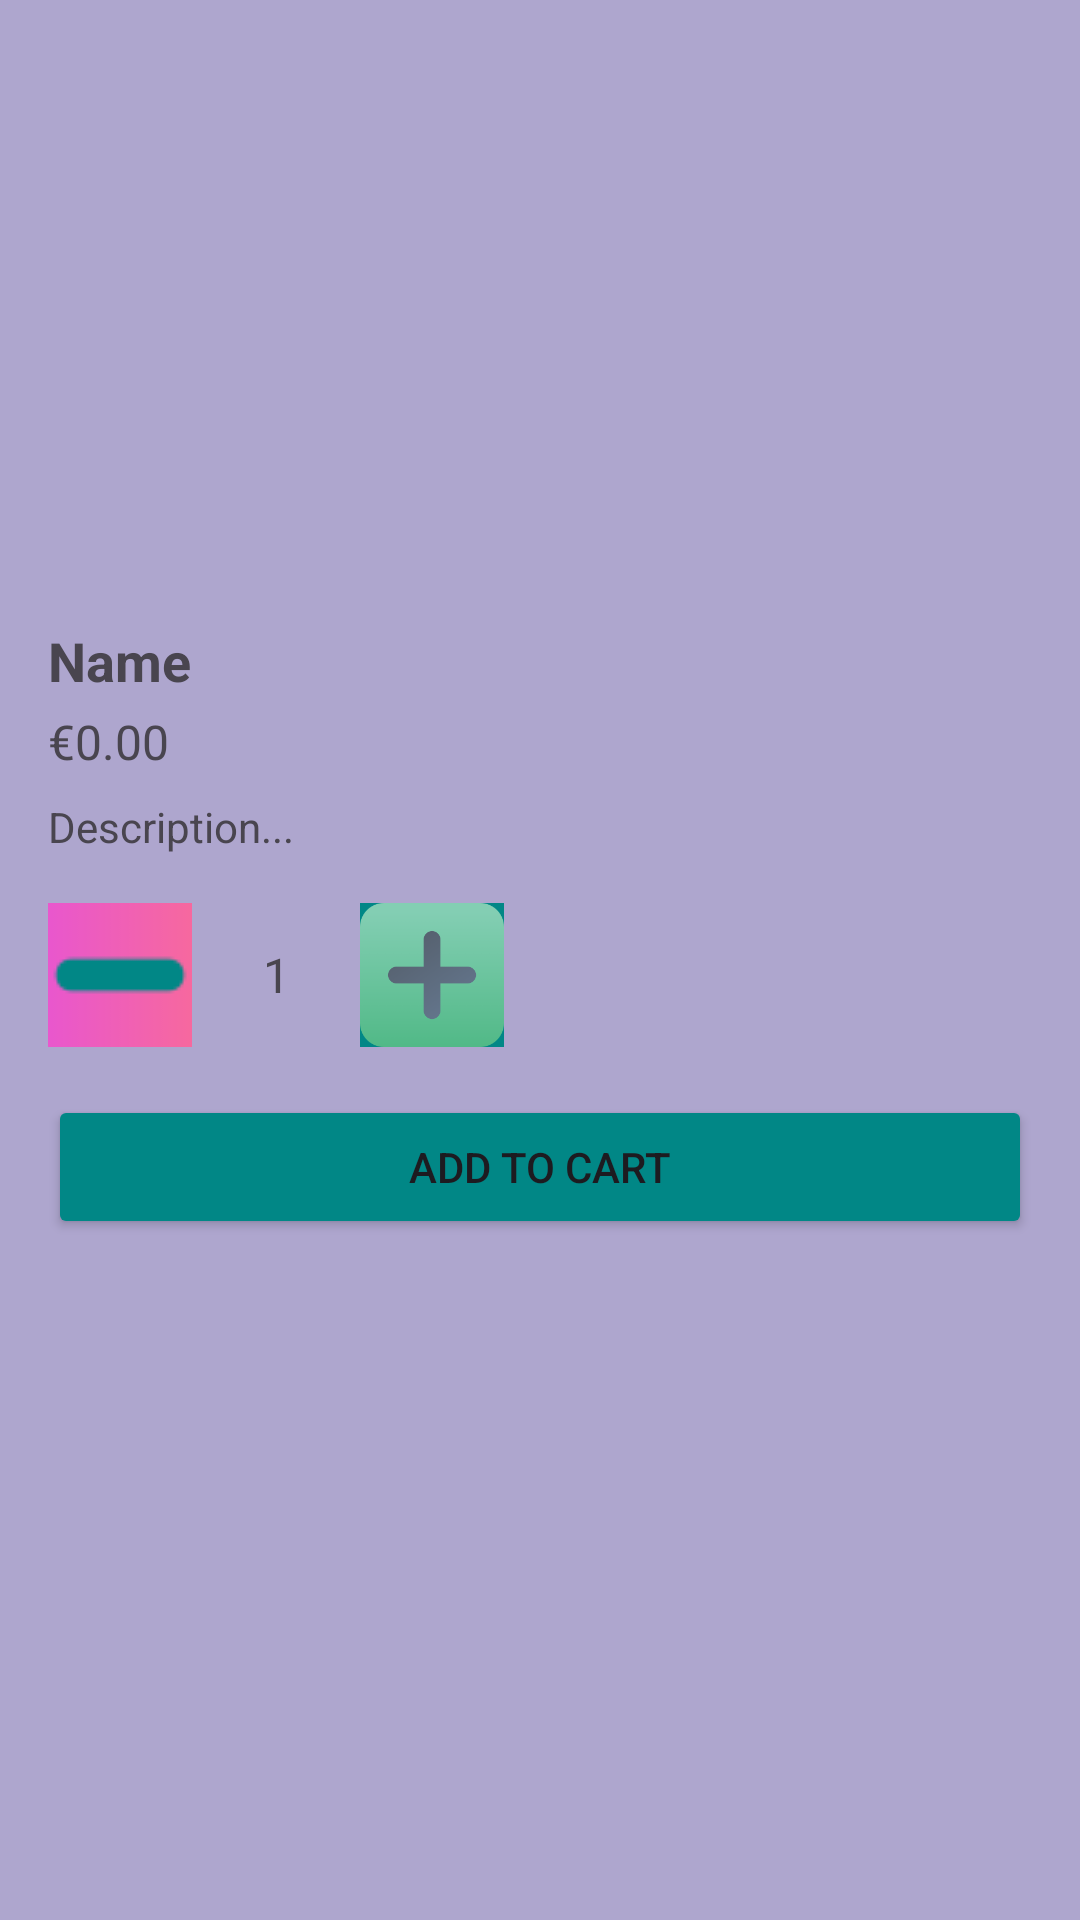

Screen size 1080px x 1920px. Icon name, then its box in pixels as (x1, y1, x2, y2):
Decrease quantity: (48, 903, 192, 1047)
Increase quantity: (360, 903, 504, 1047)
